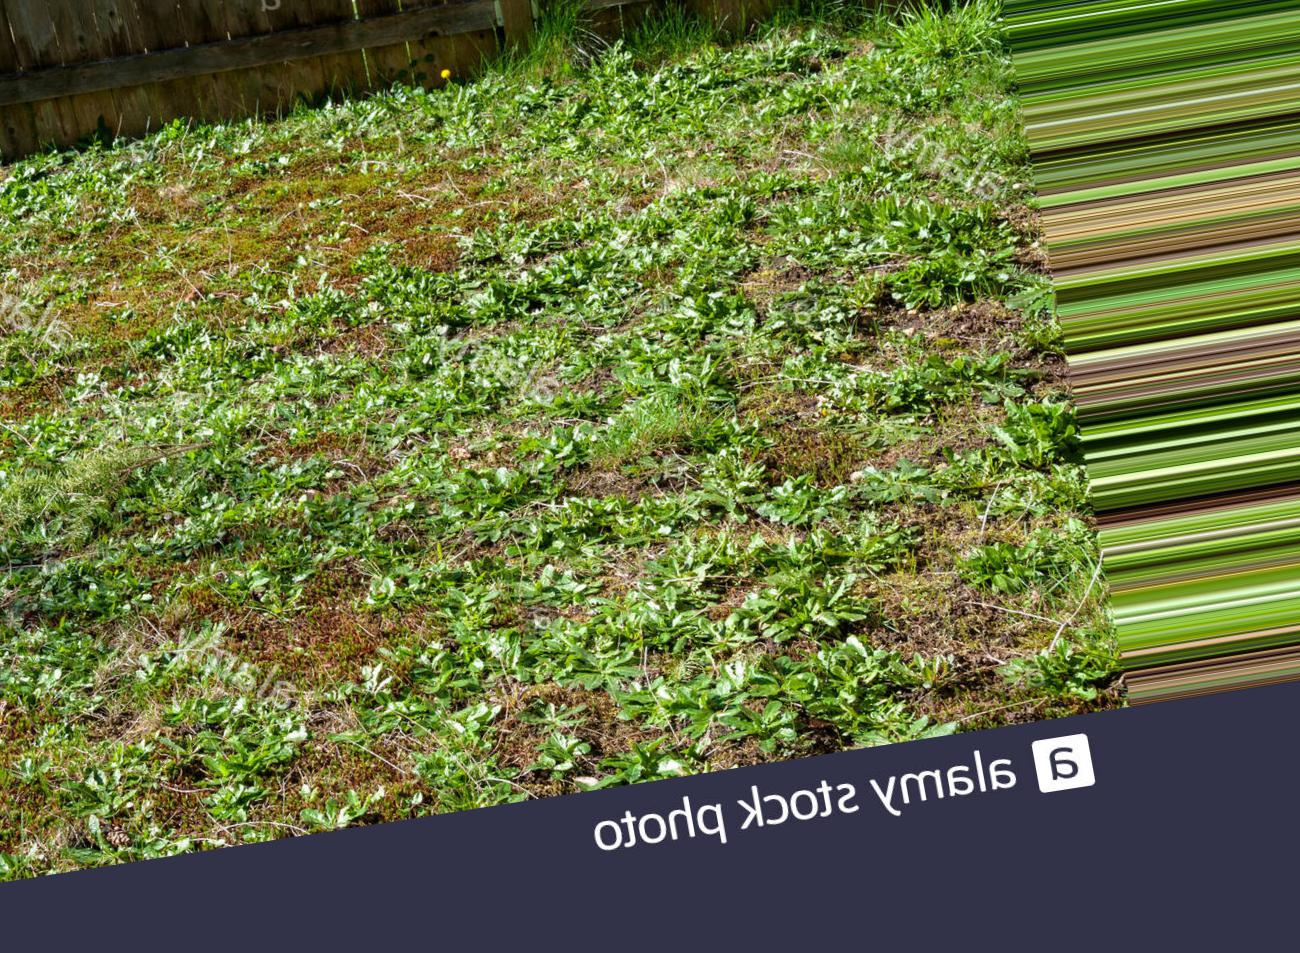patch: (140, 168, 534, 324), (172, 687, 431, 853), (203, 527, 450, 695), (760, 312, 915, 475), (552, 142, 731, 222), (30, 264, 138, 364)
